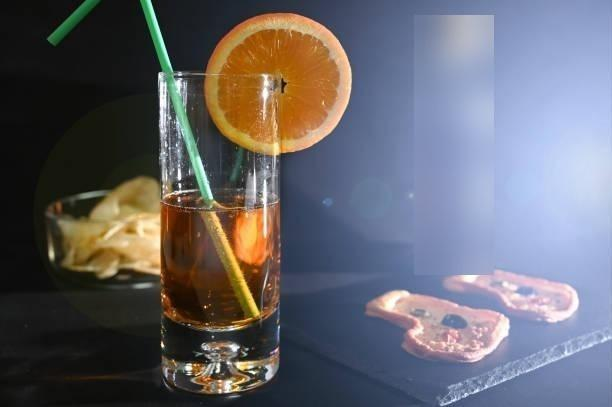glass-normal: (154, 69, 284, 397)
